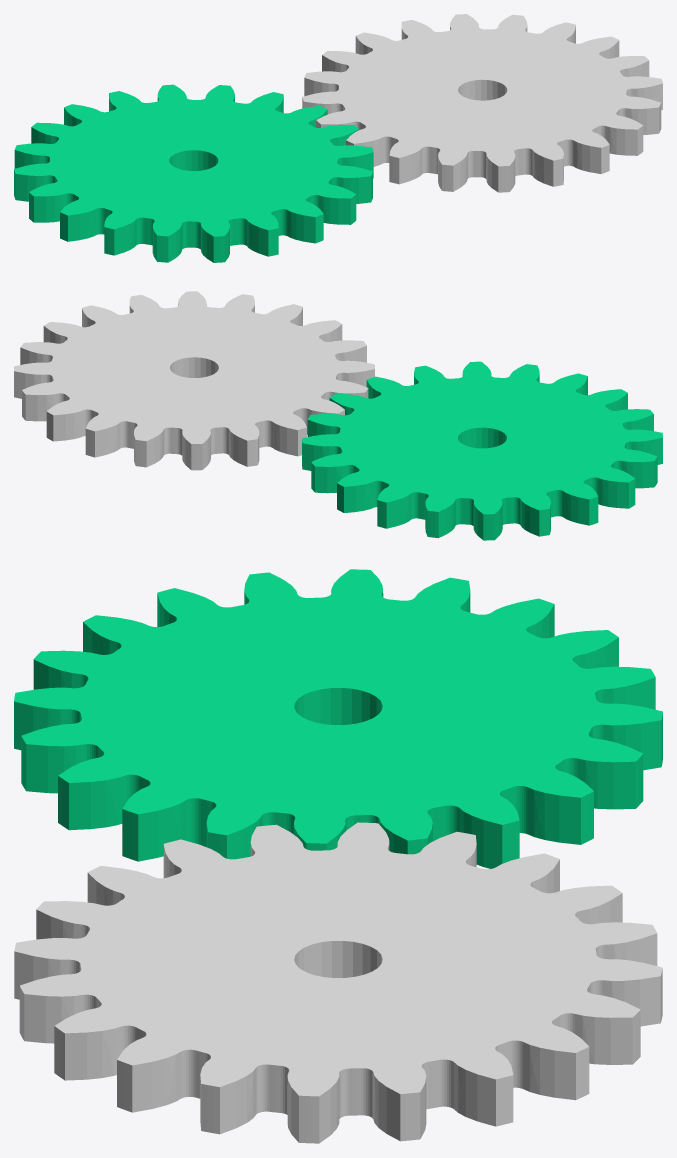
Rendered from gear18_2gear.gltf.
3 views of the same model, one above another, from view 1: azimuth 30°, elevation 25°; view 2: azimuth 150°, elevation 25°; view 3: azimuth 270°, elevation 25° (orthographic). The views are drawn at different scales.
Visible parts, largest first — view 1: Gear01, Gear01.001; view 2: Gear01, Gear01.001; view 3: Gear01.001, Gear01.
Part boxes in pixels (bbox=[...]): Gear01: bbox=[14, 84, 373, 262]; Gear01.001: bbox=[302, 14, 662, 192]; Gear01: bbox=[302, 361, 662, 540]; Gear01.001: bbox=[14, 291, 374, 470]; Gear01.001: bbox=[14, 822, 662, 1143]; Gear01: bbox=[14, 569, 662, 868].
Size of the model in its own units: 42.25 by 1.76 by 21.99.
